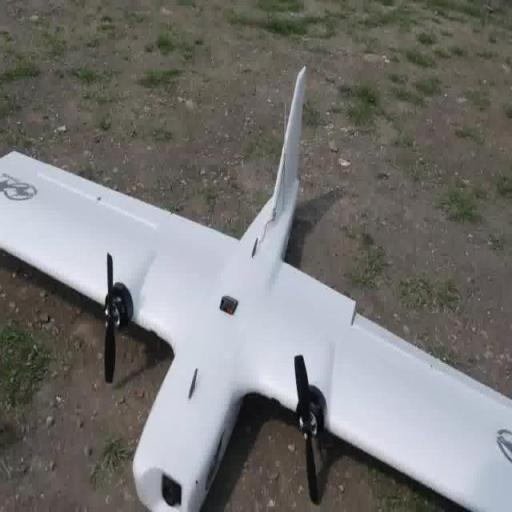uav: (0, 63, 512, 512)
